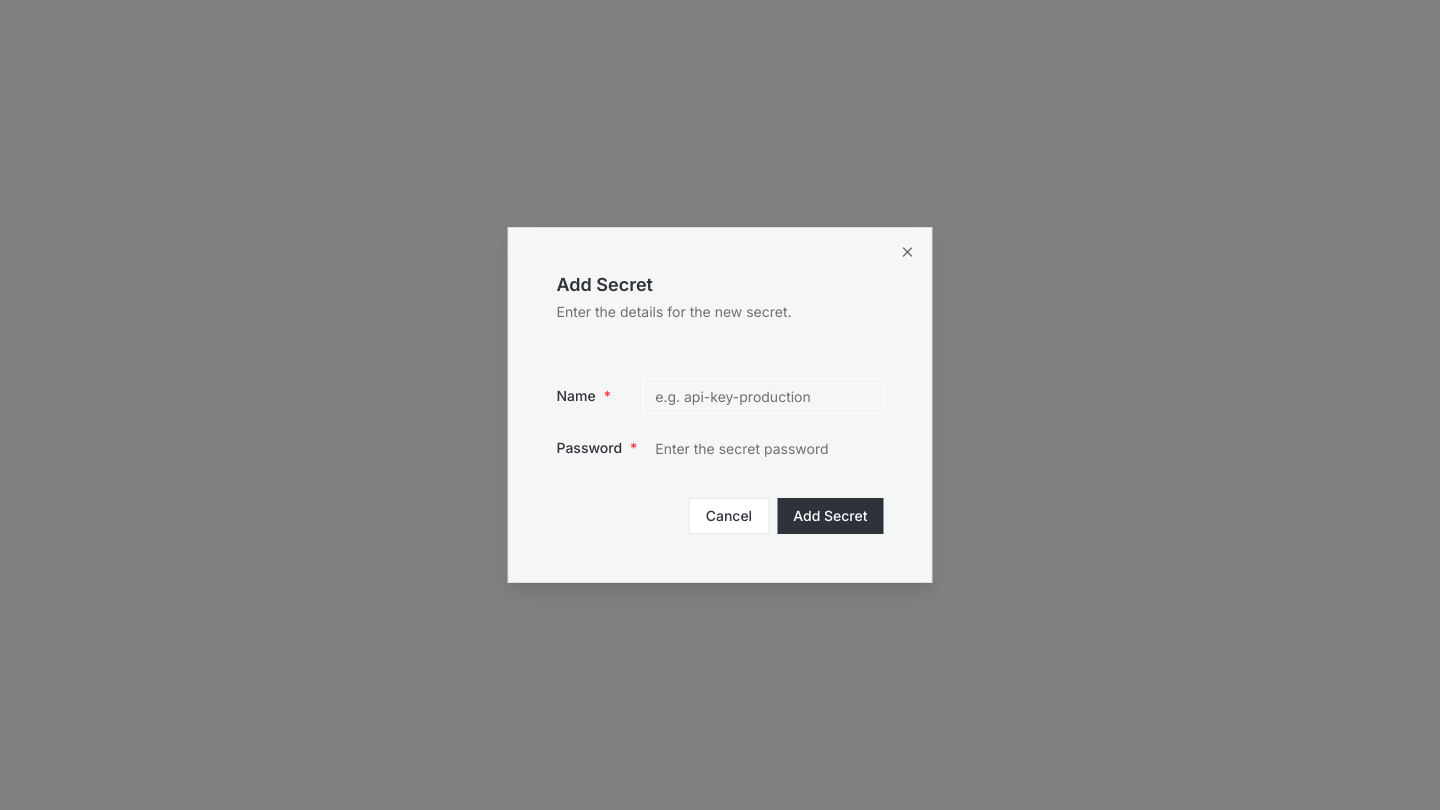
Test: SecretEditor › validation › should show error for invalid kubernetes name
The width and height of the screenshot is (1440, 810).
Type "Invalid_Name" into the field with placeholder "e.g. api-key-production". click: (763, 396)
box: [642,378,884,414]
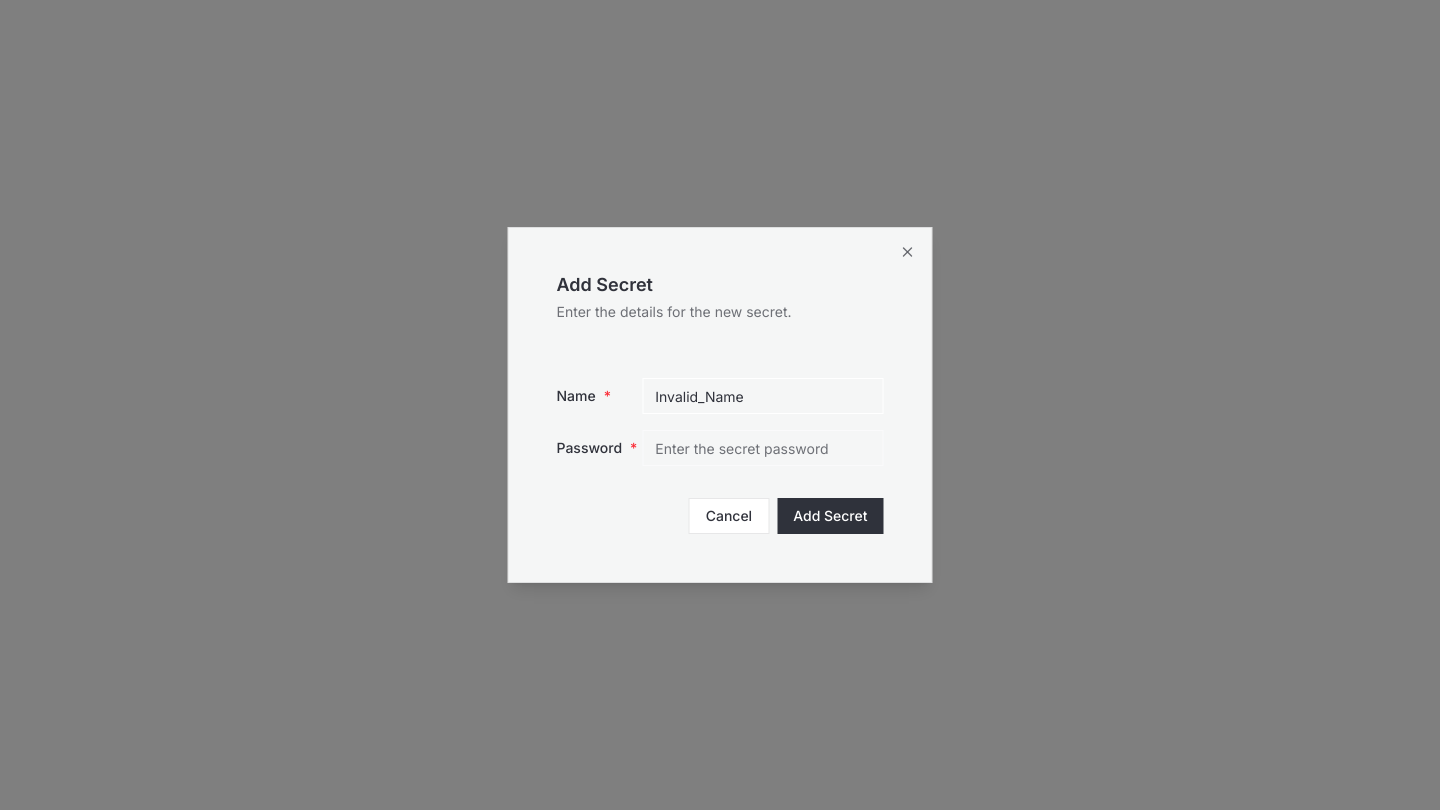
Type "secret123" into the password field with placeholder "Enter the secret password". click: (763, 448)
box: [642,430,884,466]
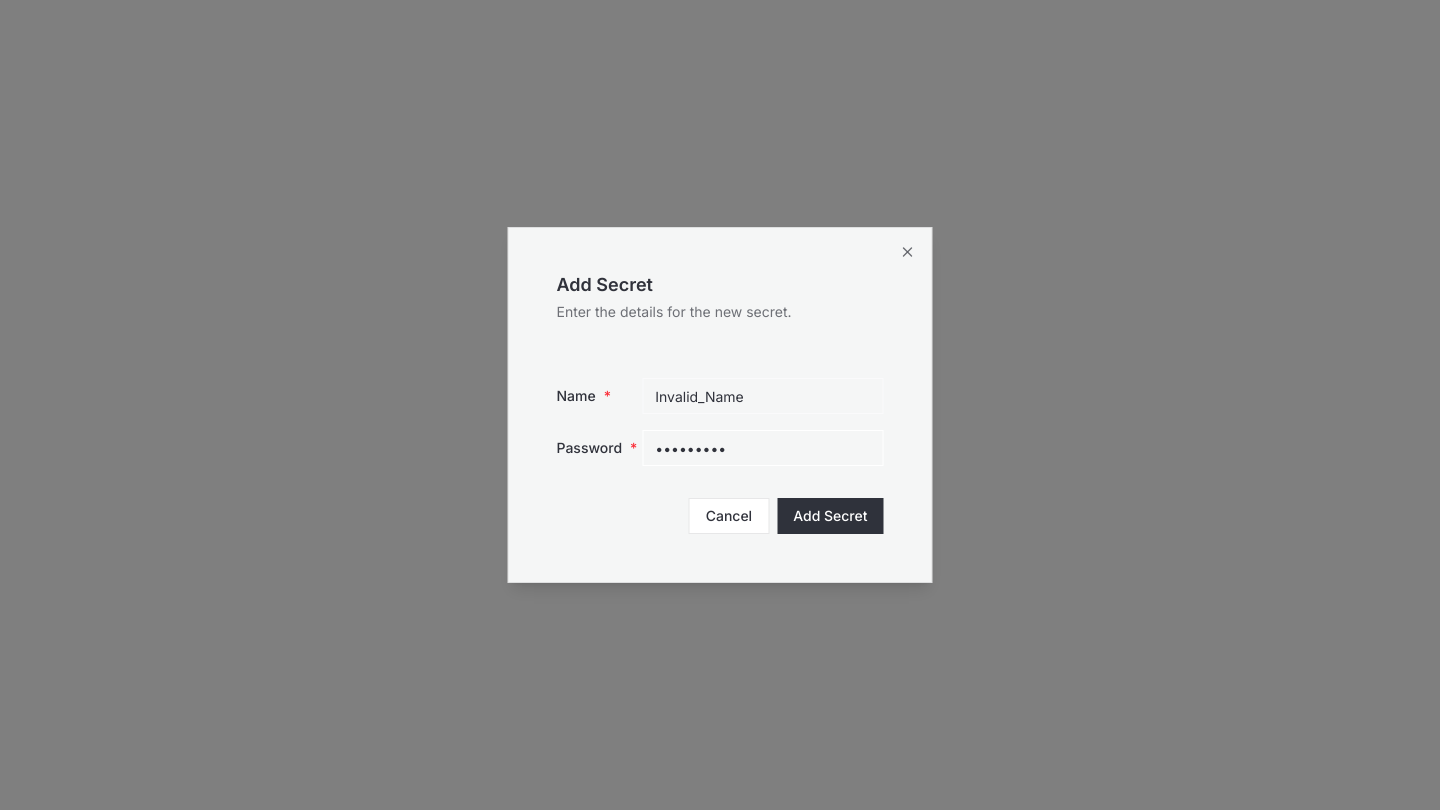
Click the button "Add Secret". click: (830, 516)
box: [777,498,884,534]
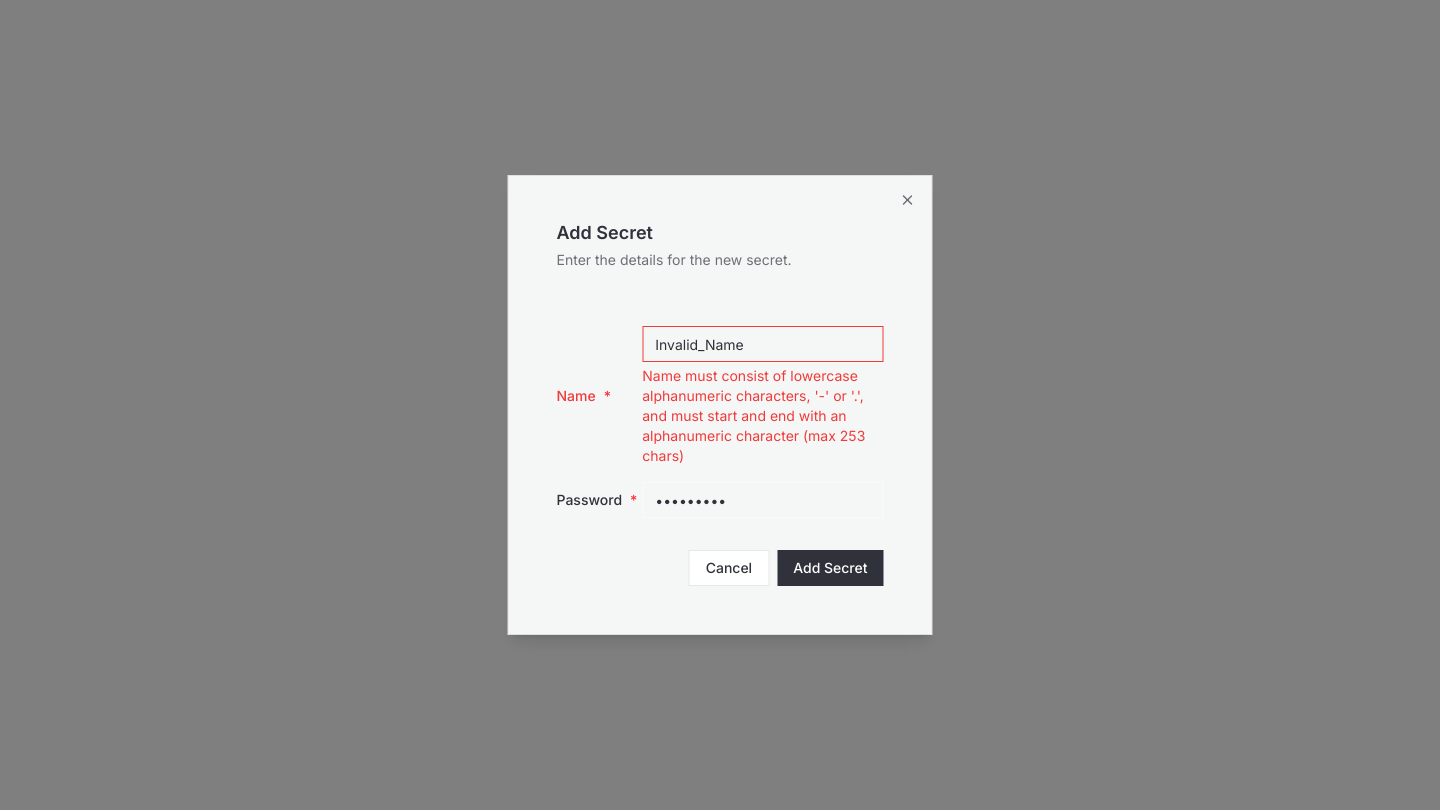
Now the text "Name must consist of lowercase alphanumeric characters" is shown, box [642,367,865,464]
